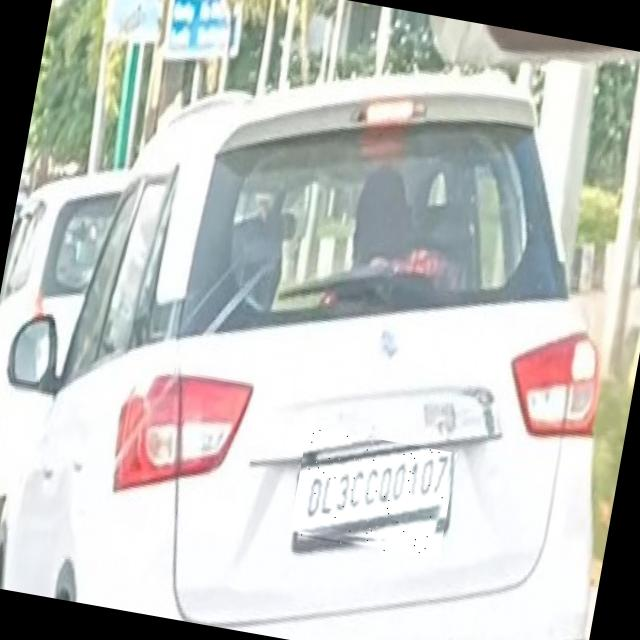Plate: (289, 428, 458, 563)
